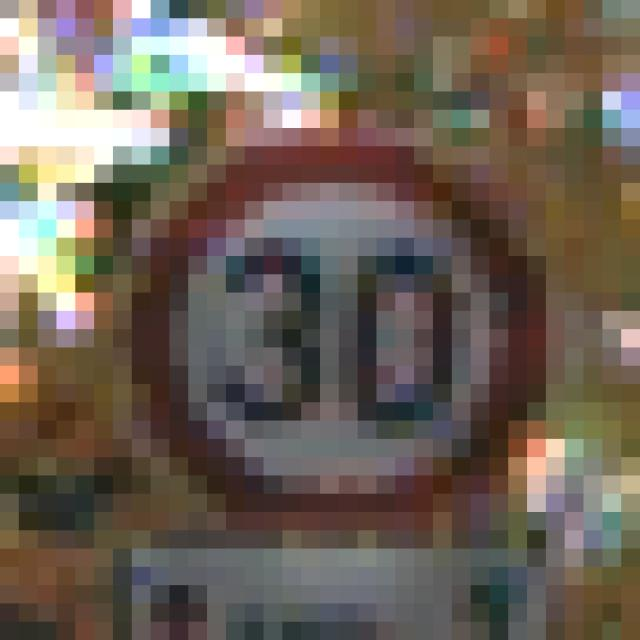Speed Limit -30-: (85, 101, 518, 521)
